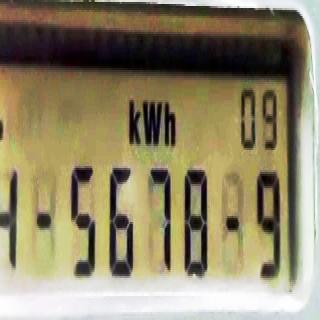-: (224, 204, 240, 244), (34, 206, 53, 235)
0: (239, 84, 257, 157)
4: (0, 166, 20, 279)
5: (70, 160, 97, 286)
6: (107, 158, 135, 287)
7: (150, 160, 173, 276)
8: (181, 158, 209, 293)
9: (254, 163, 283, 286), (260, 78, 279, 162)
